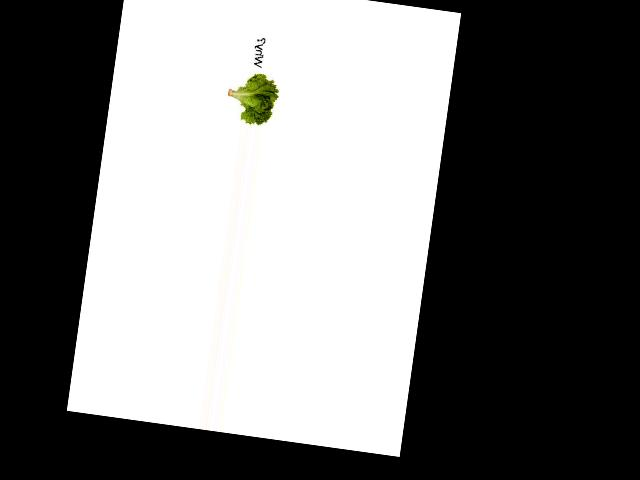lettuce: (223, 64, 281, 128)
